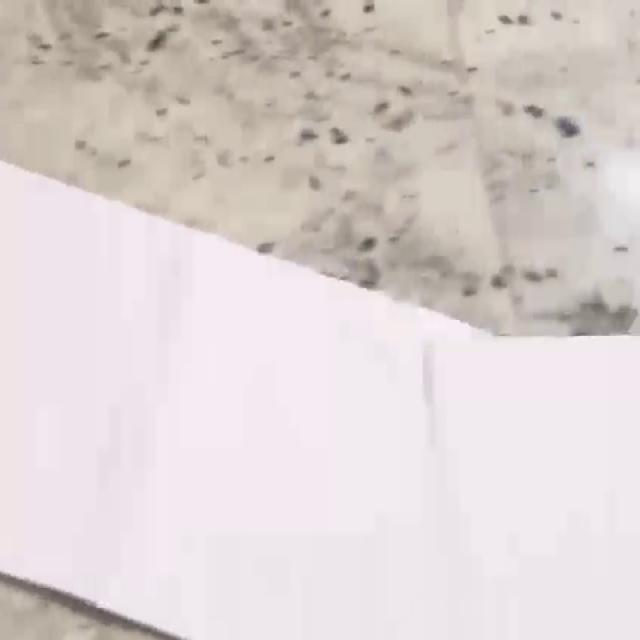road: (0, 160, 640, 640)
